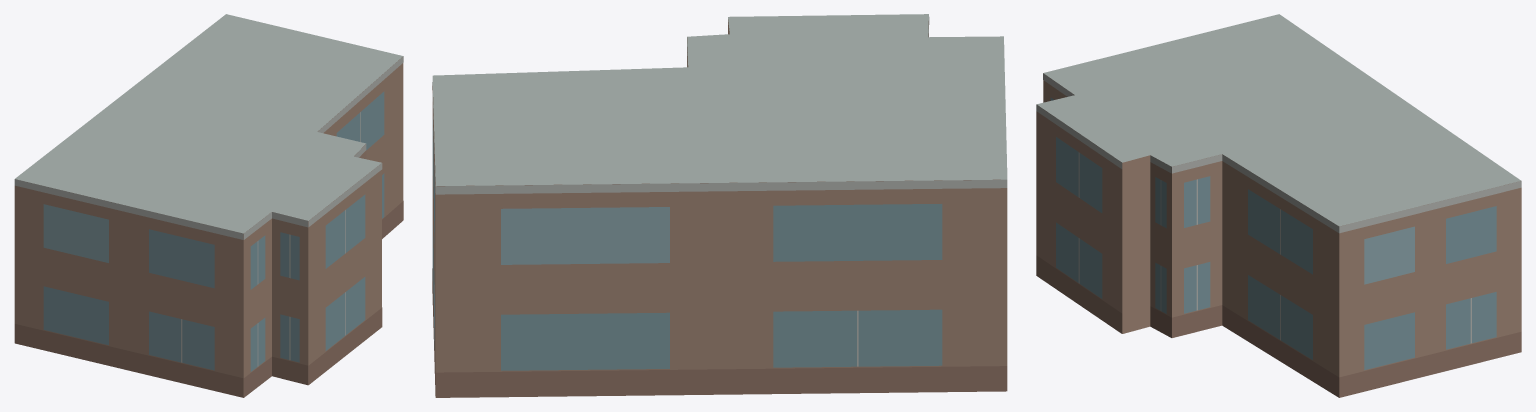
File: survey-upis-32768164.glb
3 views of the same model, side by side, from view 1: azimuth 30°, elevation 25°; view 2: azimuth 150°, elevation 25°; view 3: azimuth 270°, elevation 25° (orthographic). The views are drawn at different scales.
Visible parts, largest first — view 1: survey-upis-32768164.tmp; view 2: survey-upis-32768164.tmp; view 3: survey-upis-32768164.tmp.
Part boxes in pixels (box(x1,y1,x2,y2)): survey-upis-32768164.tmp: box(14, 14, 403, 397); survey-upis-32768164.tmp: box(432, 14, 1007, 397); survey-upis-32768164.tmp: box(1036, 14, 1521, 397).
Bounding box in the file's own units: 16.23 × 6.1 × 15.66.
